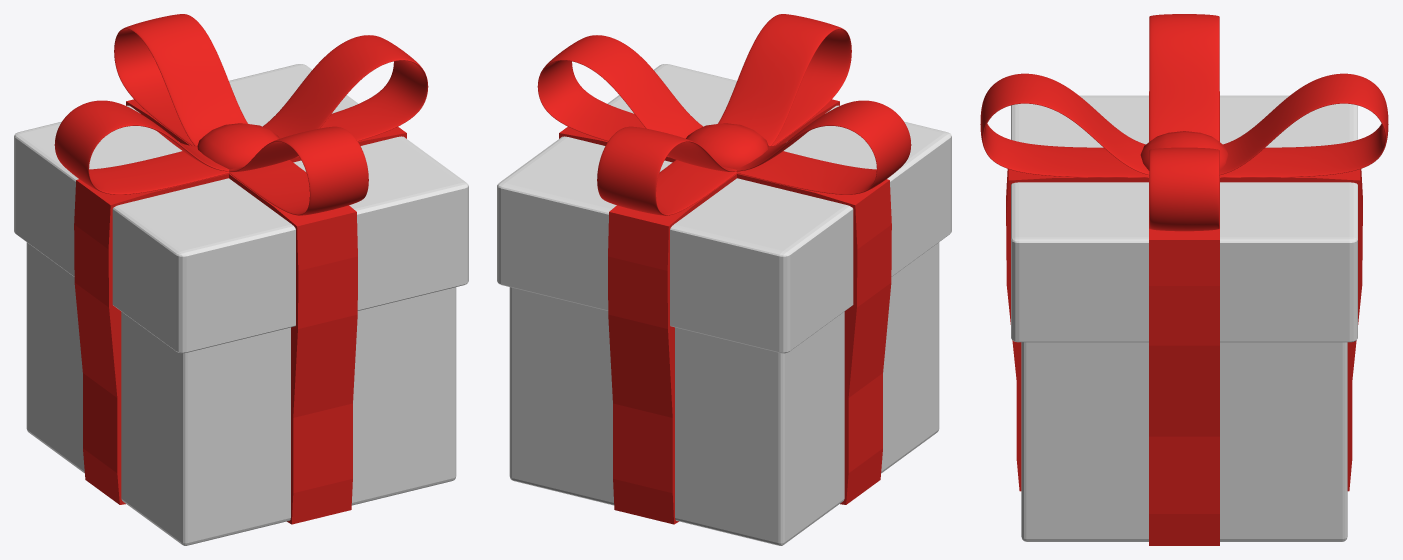
Rendered from present.glb.
3 views of the same model, side by side, from view 1: azimuth 30°, elevation 25°; view 2: azimuth 150°, elevation 25°; view 3: azimuth 270°, elevation 25° (orthographic). The views are drawn at different scales.
Visible parts, largest first — view 1: Box, Ribbon; view 2: Box, Ribbon; view 3: Box, Ribbon.
Boxes of the visible parts, left/top/right/bottom form: Box: left=14, top=64, right=468, bottom=545; Ribbon: left=54, top=14, right=428, bottom=524; Box: left=497, top=64, right=951, bottom=545; Ribbon: left=537, top=14, right=911, bottom=524; Box: left=1011, top=95, right=1357, bottom=541; Ribbon: left=980, top=14, right=1388, bottom=545.
Size of the model in its own units: 0.1987 by 0.211 by 0.1987.
